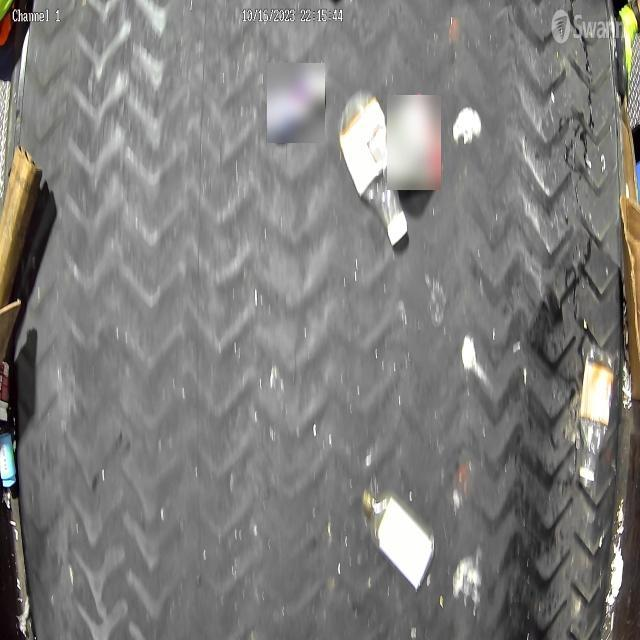plastic_bottle: (339, 88, 407, 246), (360, 486, 436, 591), (576, 340, 618, 486)
